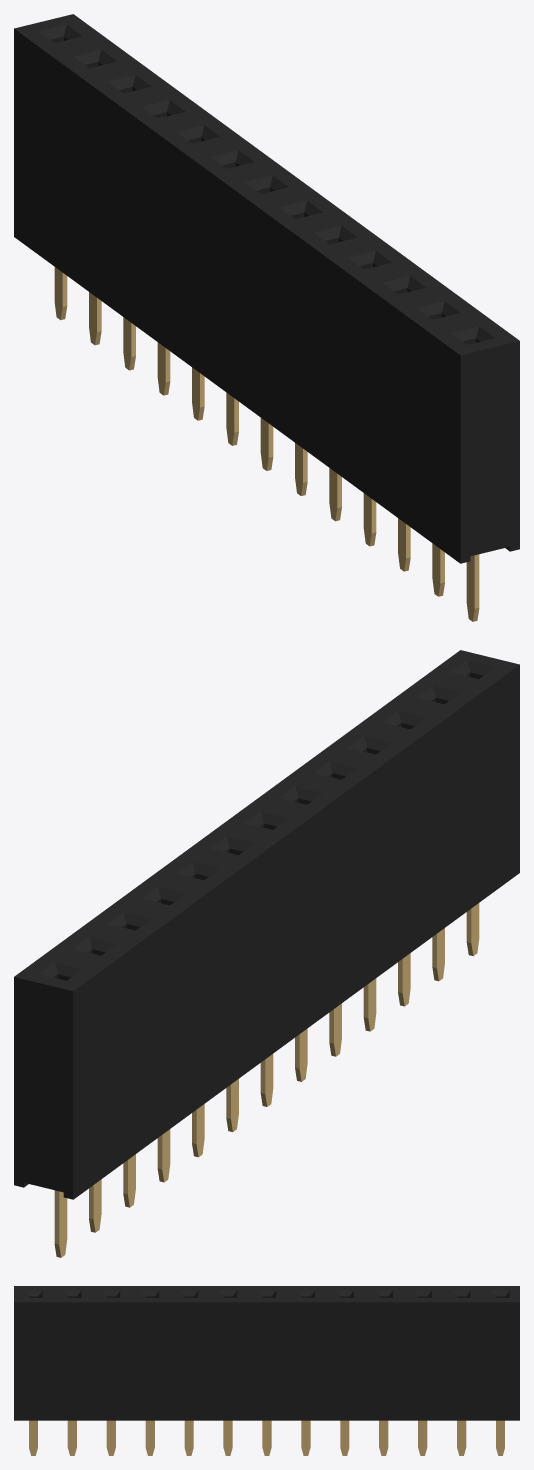
The model's file is kc-pinsocket_1x13_p2.54mm_vertical.glb.
3 renders of one model, top to bottom at view 1: azimuth 30°, elevation 25°; view 2: azimuth 150°, elevation 25°; view 3: azimuth 270°, elevation 25°, orthographic. The views are drawn at different scales.
Visible parts, largest first — view 1: 0_0_0_0, 0.75_0.5_0.25_0.9; view 2: 0_0_0_0, 0.75_0.5_0.25_0.9; view 3: 0_0_0_0, 0.75_0.5_0.25_0.9.
Part boxes in pixels (bbox=[...]): 0_0_0_0: bbox=[14, 14, 519, 563]; 0.75_0.5_0.25_0.9: bbox=[54, 267, 479, 621]; 0_0_0_0: bbox=[14, 650, 519, 1199]; 0.75_0.5_0.25_0.9: bbox=[54, 903, 479, 1257]; 0_0_0_0: bbox=[14, 1286, 519, 1420]; 0.75_0.5_0.25_0.9: bbox=[29, 1420, 504, 1455].
Size of the model in its own units: 0.2539 by 1.16 by 3.3.
